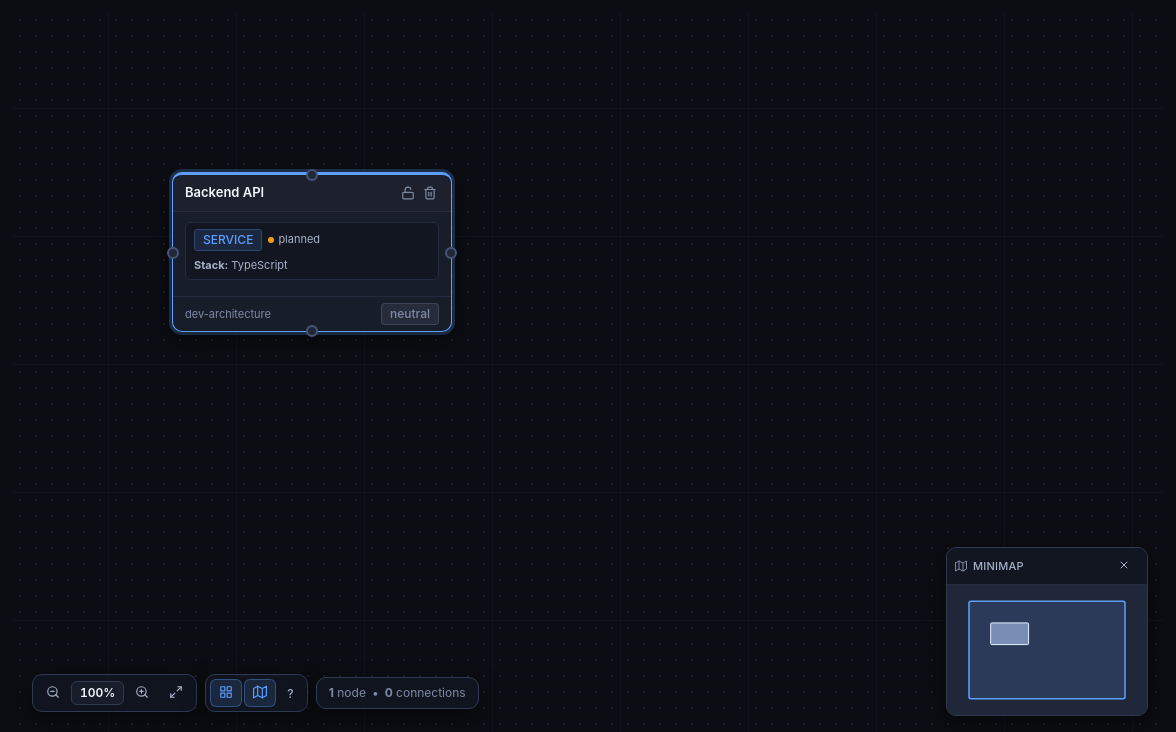
Test case: Canvas Interaction Pipeline Integration Suite › Priority C: Right-Click Custom Context Menu › context menu Inspect Node action selects the node and closes menu
Right-click the button "Backend API" at (312, 252), box [172,172,452,332]
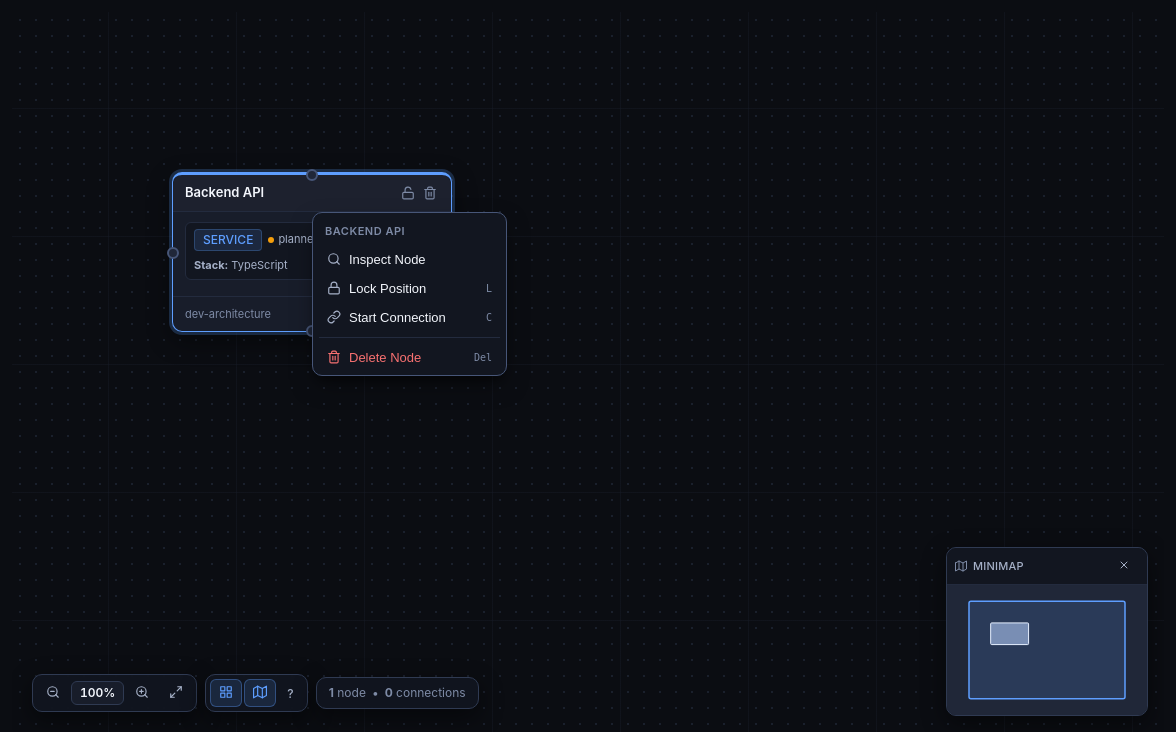
Click the menu item "Inspect Node" at (410, 259), box [317,246,502,272]
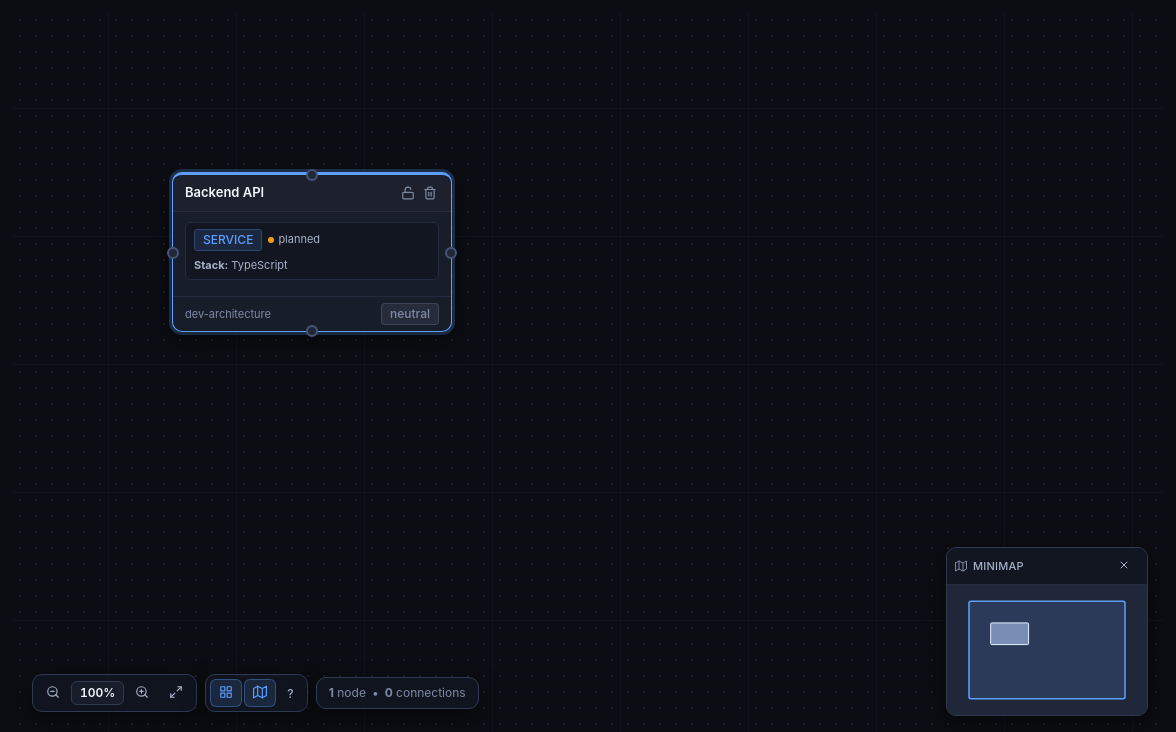
Check: the menu is gone
